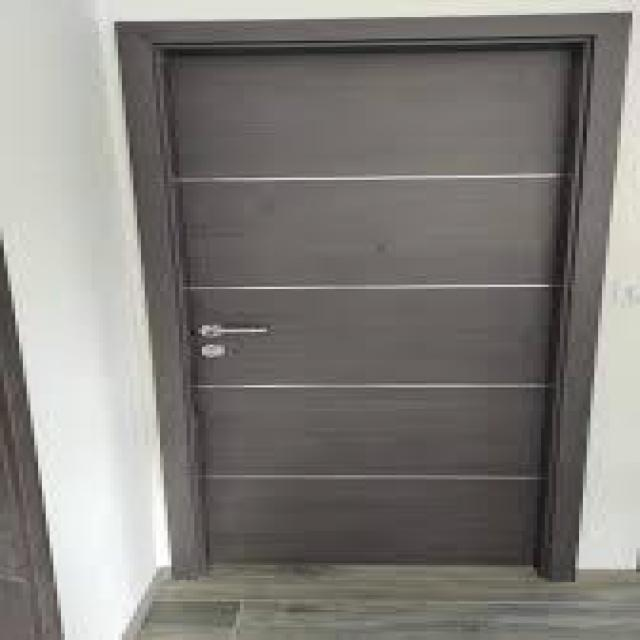door: (147, 35, 587, 579)
